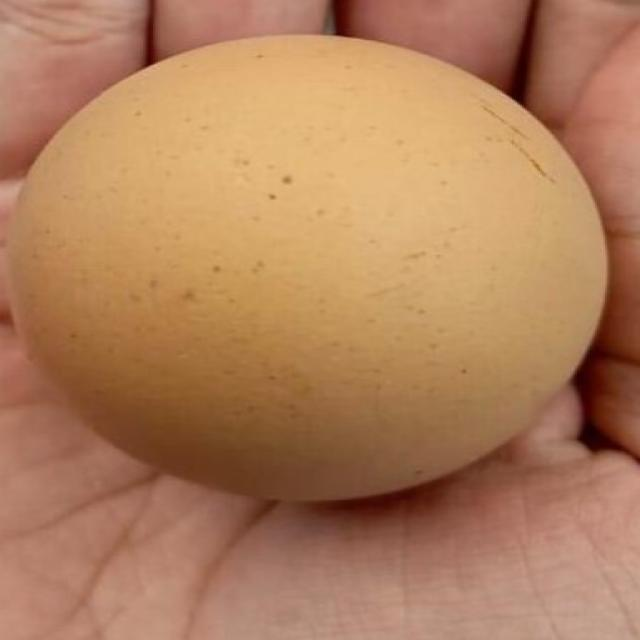unfresh: (5, 29, 603, 494)
